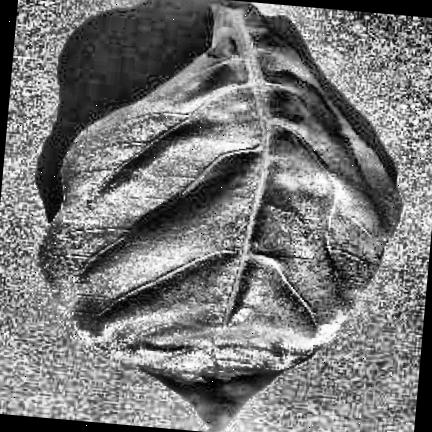leaf: (38, 4, 402, 432)
